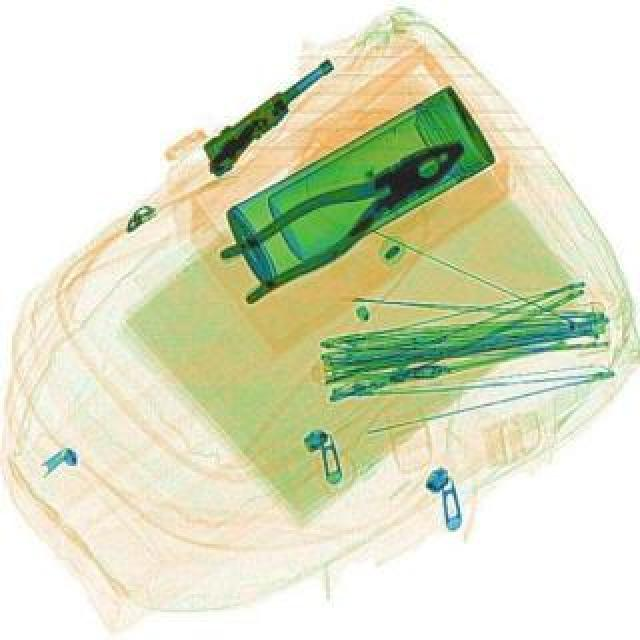gun: (192, 56, 352, 184)
wrench: (216, 124, 488, 312)
